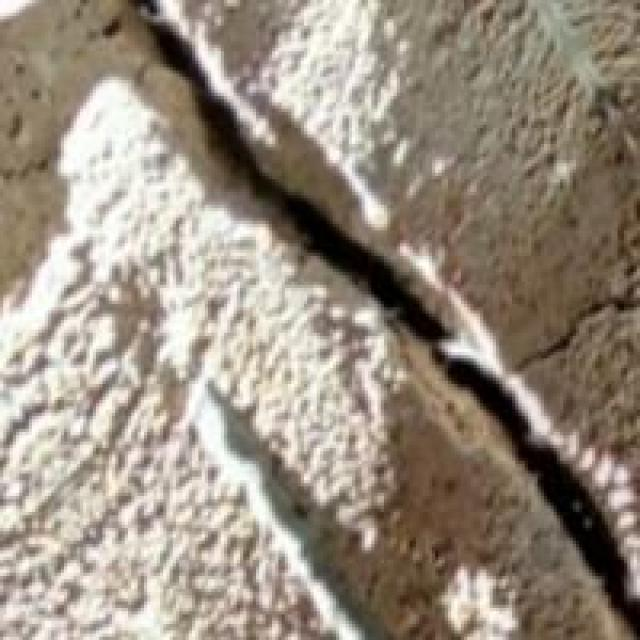Crack: (144, 0, 637, 611)
